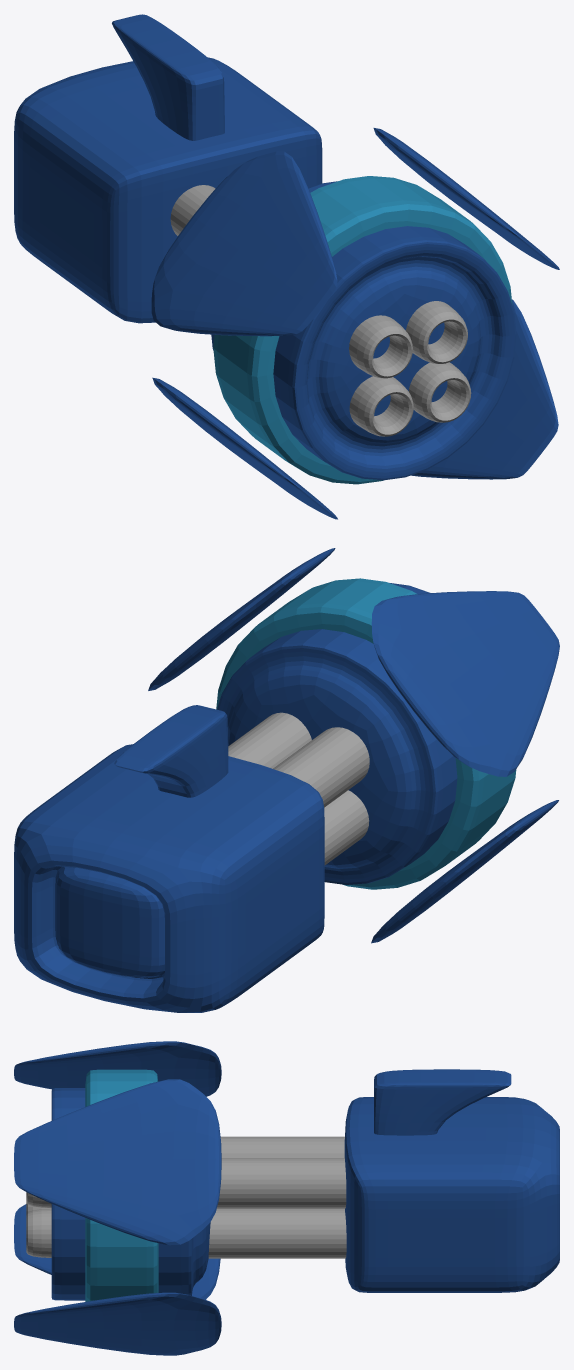
The model's file is lightning_gun.fbx.
3 views of the same model, one above another, from view 1: azimuth 30°, elevation 25°; view 2: azimuth 150°, elevation 25°; view 3: azimuth 270°, elevation 25° (orthographic). The views are drawn at different scales.
Parts seen in each view (by area): view 1: Lightning Gn; view 2: Lightning Gn; view 3: Lightning Gn.
Part boxes in pixels (x1,y1,x2,y2): Lightning Gn: (14, 14, 559, 519); Lightning Gn: (14, 548, 559, 1012); Lightning Gn: (14, 1041, 559, 1355).
Size of the model in its own units: 285 by 257 by 462.
